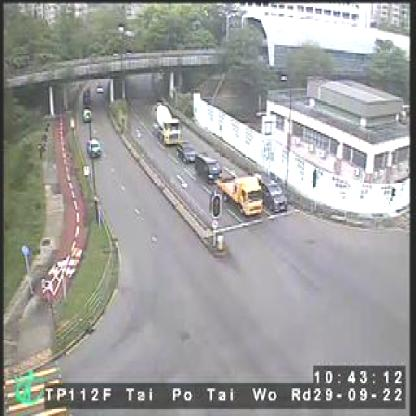Car: (256, 172, 285, 208), (192, 149, 224, 180), (174, 142, 196, 163), (83, 137, 102, 158)
Truck: (216, 172, 260, 215), (150, 102, 178, 148)
